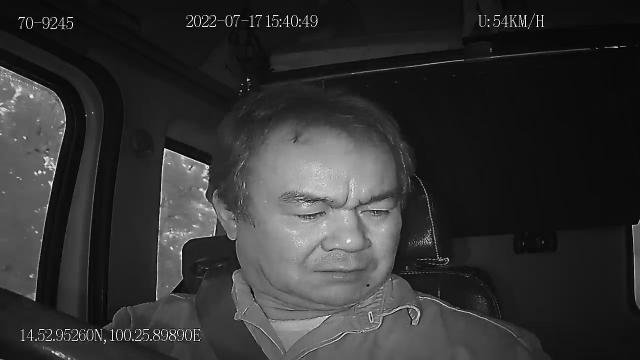SafeDriving: (278, 195, 334, 225), (352, 196, 399, 222)
Seatbelt: (193, 268, 273, 360)
